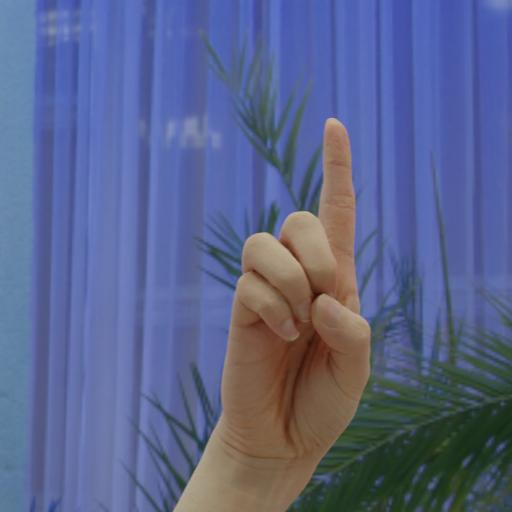D: (209, 105, 383, 490)
